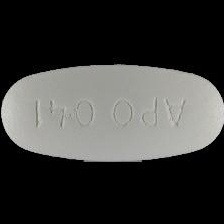0179-0207: (0, 0, 224, 224)
